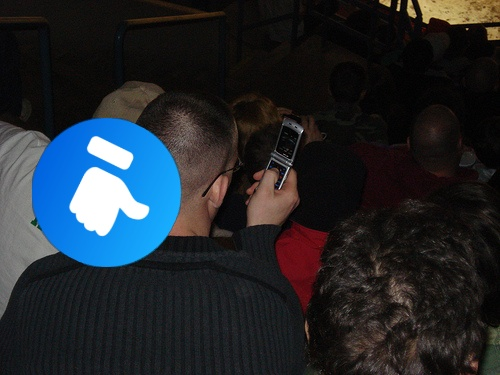like: (32, 118, 181, 267)
